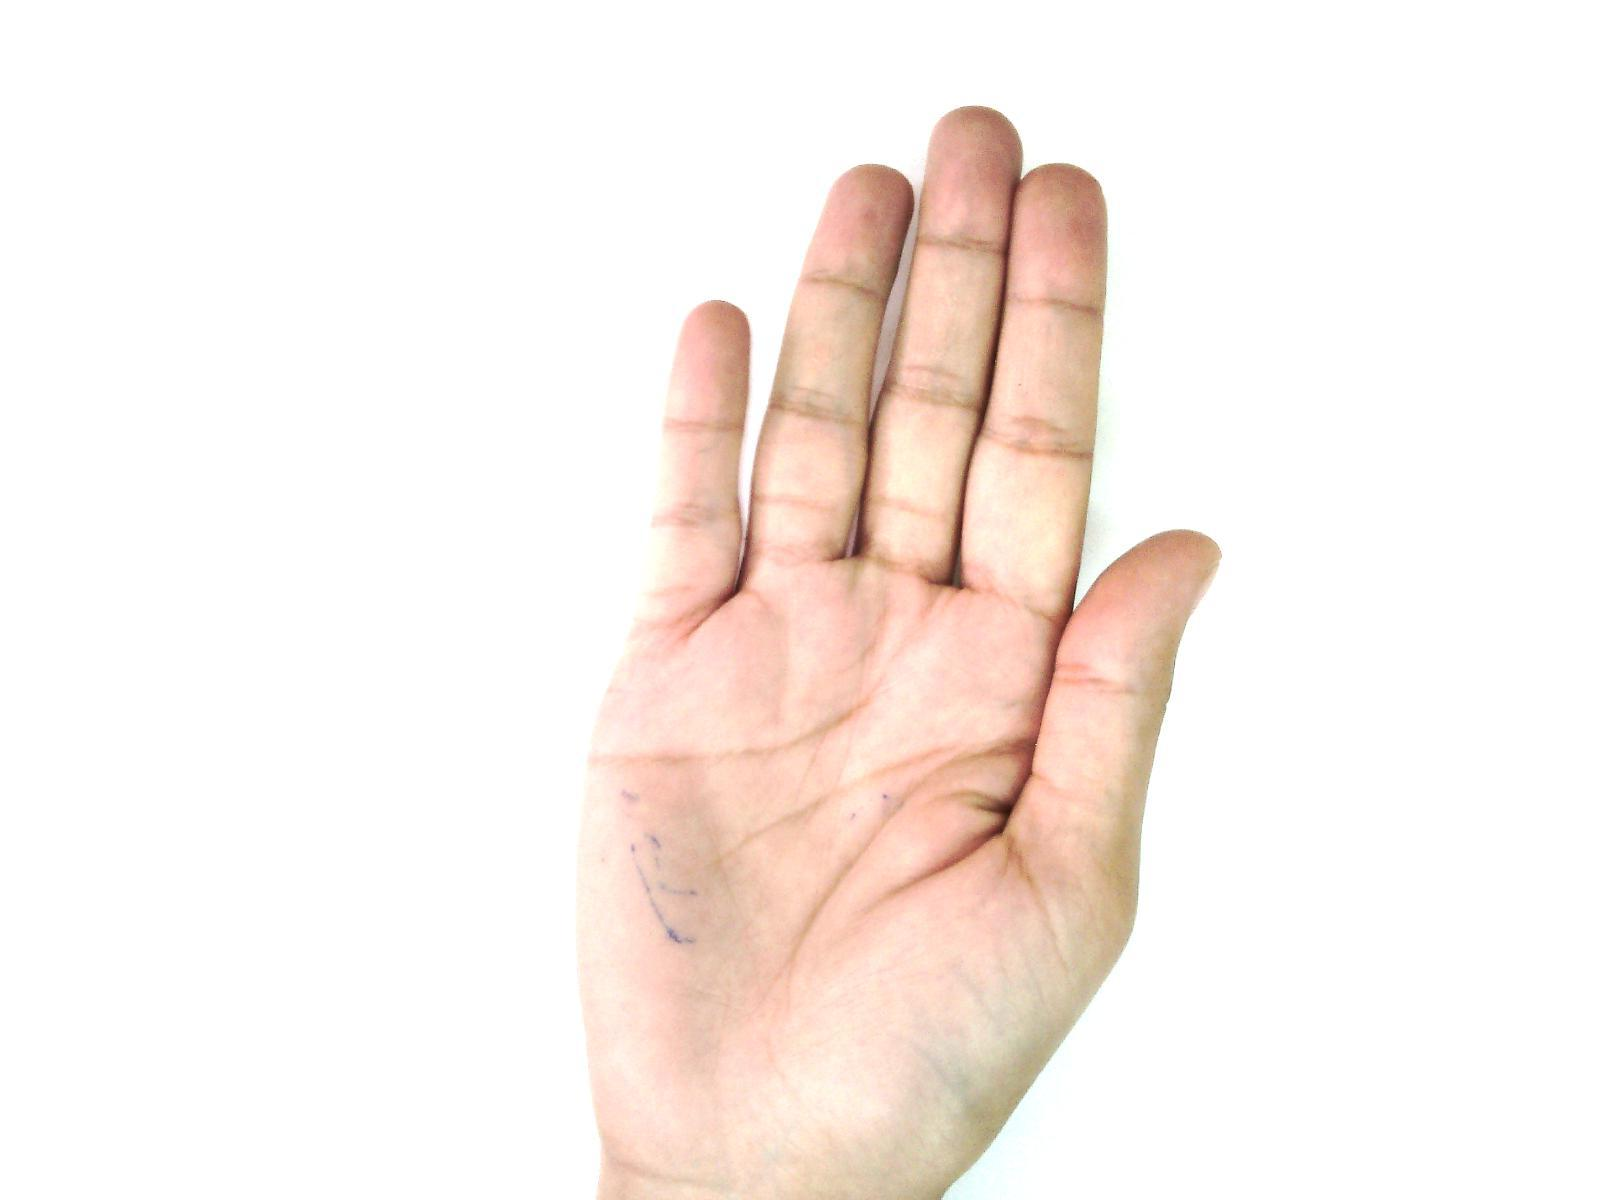hand: (573, 95, 1237, 1157)
